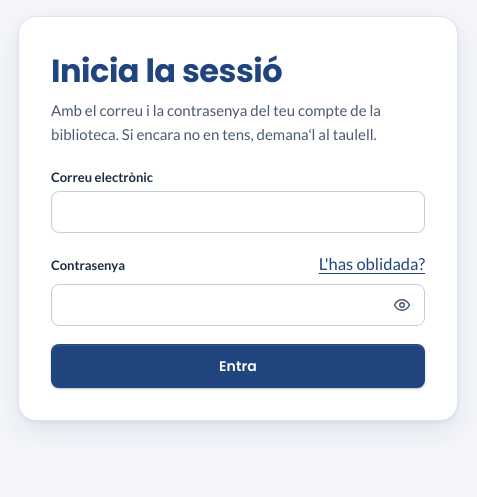
Scenario: LoginPage › nothing is sent while a field is wrong
This screenshot has width=477, height=497.
Type "pau" into the field labelled "Correu electrònic" at coordinates (238, 212), box [51, 191, 425, 233]
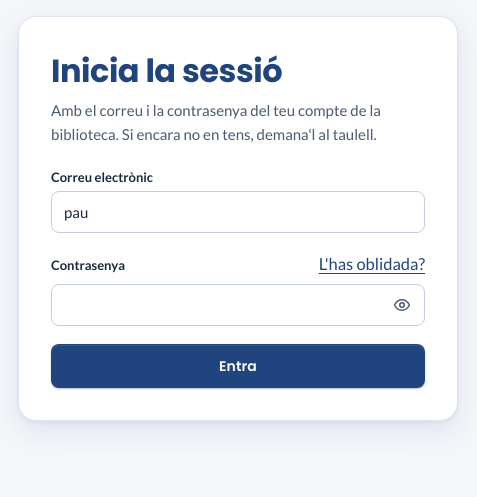
Click the button "Entra" at coordinates (238, 366), box [51, 344, 425, 388]
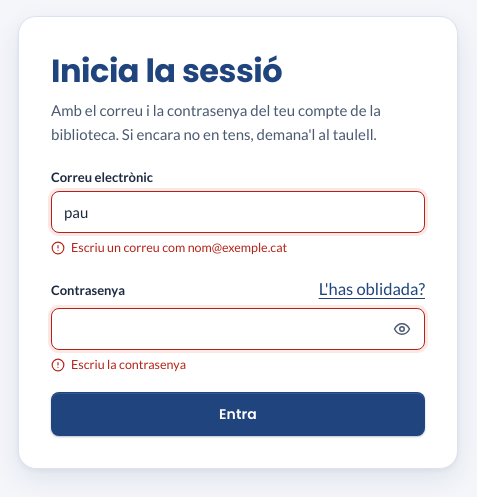
Now the text "Escriu un correu com nom@exemple.cat" is shown, box [51, 240, 287, 255]
Now the text "Escriu la contrasenya" is shown, box [51, 357, 186, 372]
